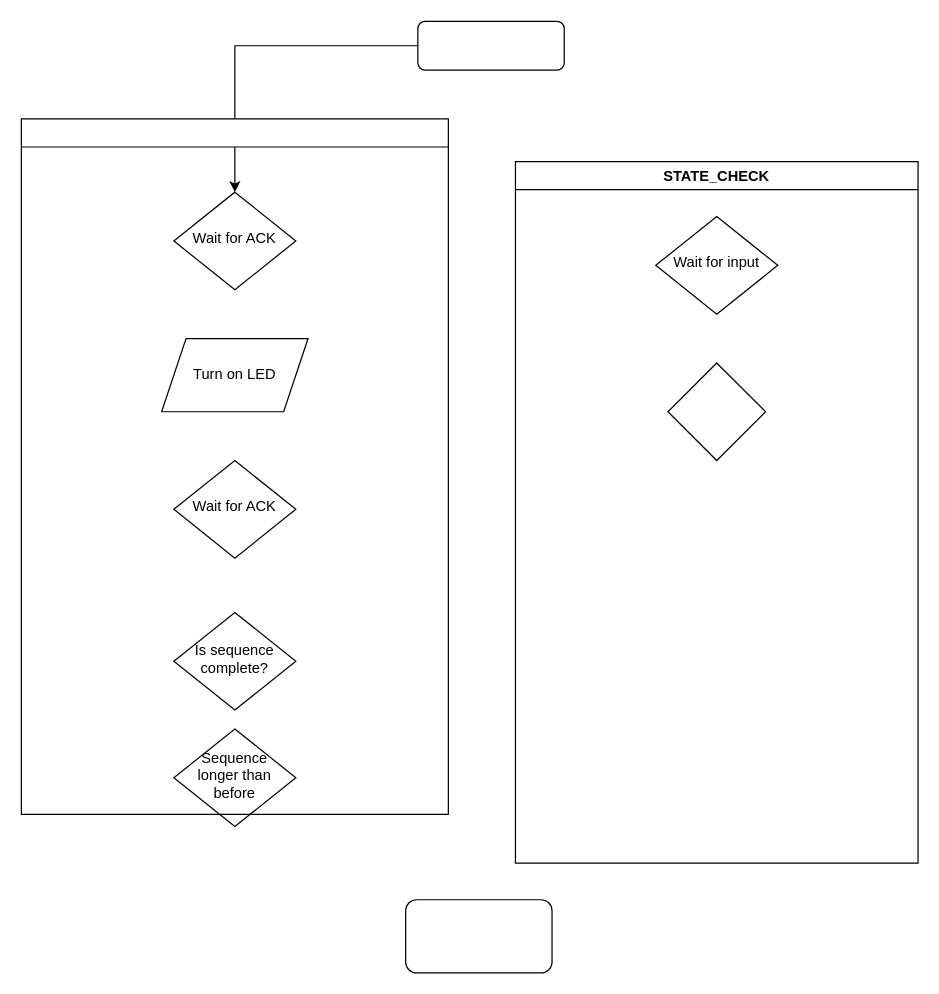
The diagram is 939 pixels wide and 994 high, and some of its shapes have lost their labels. Here are the shapes that lost their labels. From the top down, the centre of each, then its label:
At (490,45): "Start".
At (716,411): "Input correct?".
At (234,466): "STATE PLAY".
At (478,936): "Finished".
